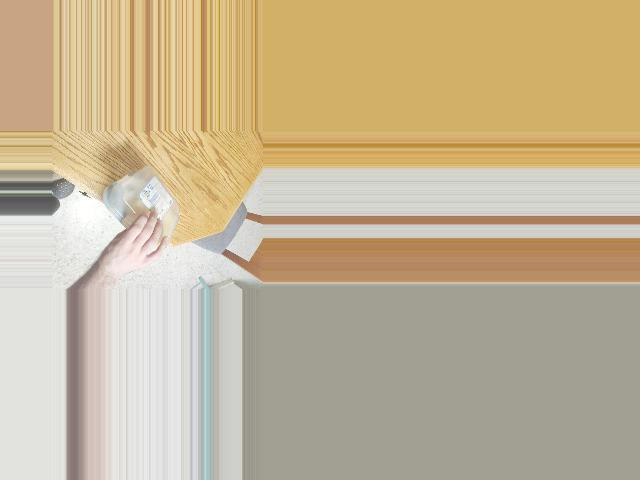cheese: (105, 166, 179, 258)
